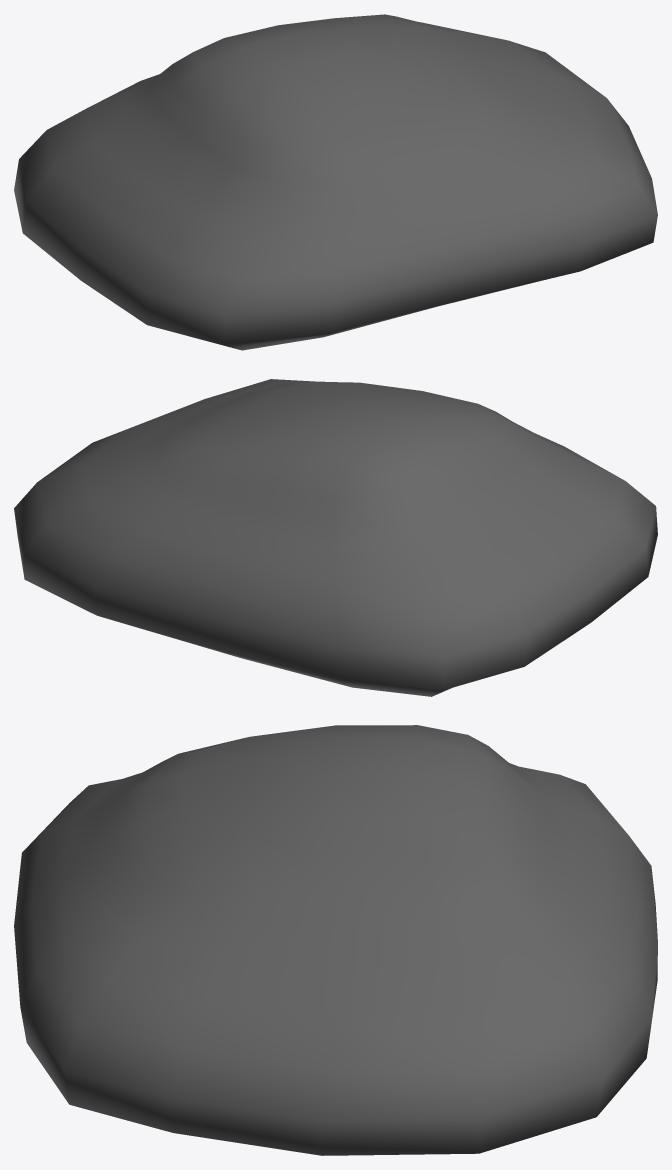
File: Stone_02.fbx
3 renders of one model, top to bottom at view 1: azimuth 30°, elevation 25°; view 2: azimuth 150°, elevation 25°; view 3: azimuth 270°, elevation 25°, orthographic. The views are drawn at different scales.
Visible parts, largest first — view 1: Stone_02; view 2: Stone_02; view 3: Stone_02.
Part boxes in pixels (x1,y1,x2,y2): Stone_02: (14,14,657,350); Stone_02: (14,379,657,696); Stone_02: (14,725,657,1155).
Bounding box in the file's own units: 130 × 43.13 × 106.
